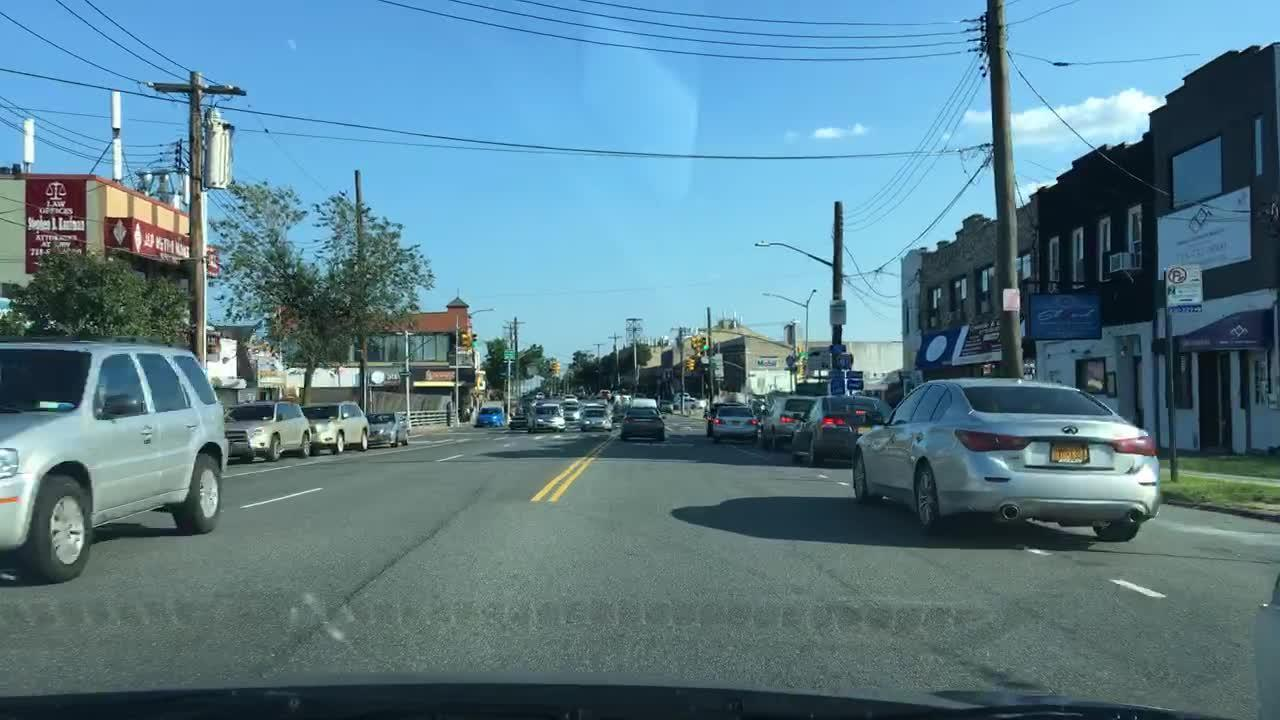Infiniti: (1056, 421, 1088, 441)
